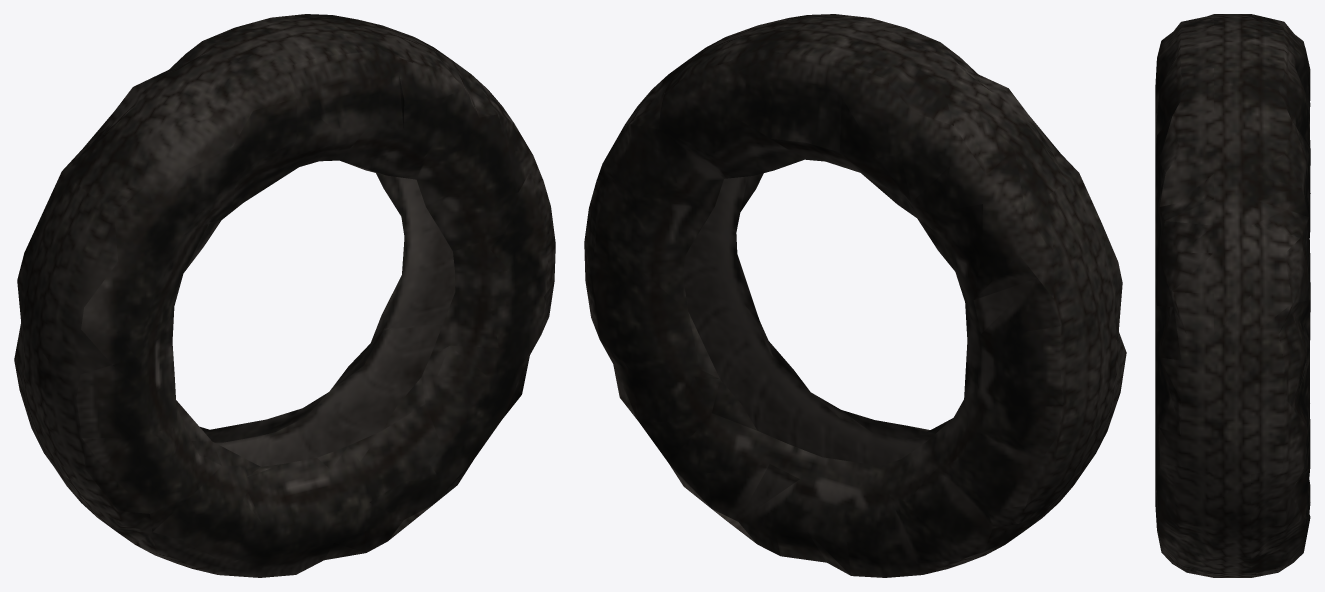
File: tyre.glb
3 views of the same model, side by side, from view 1: azimuth 30°, elevation 25°; view 2: azimuth 150°, elevation 25°; view 3: azimuth 270°, elevation 25° (orthographic). The views are drawn at different scales.
Visible parts, largest first — view 1: mesh; view 2: mesh; view 3: mesh.
Boxes of the visible parts, x1,y1,x2,y2 form: mesh: (14,14,555,577); mesh: (584,14,1126,577); mesh: (1155,14,1310,577).
Size of the model in its own units: 0.6001 by 0.6 by 0.1653.
1 material, 1 textured.
